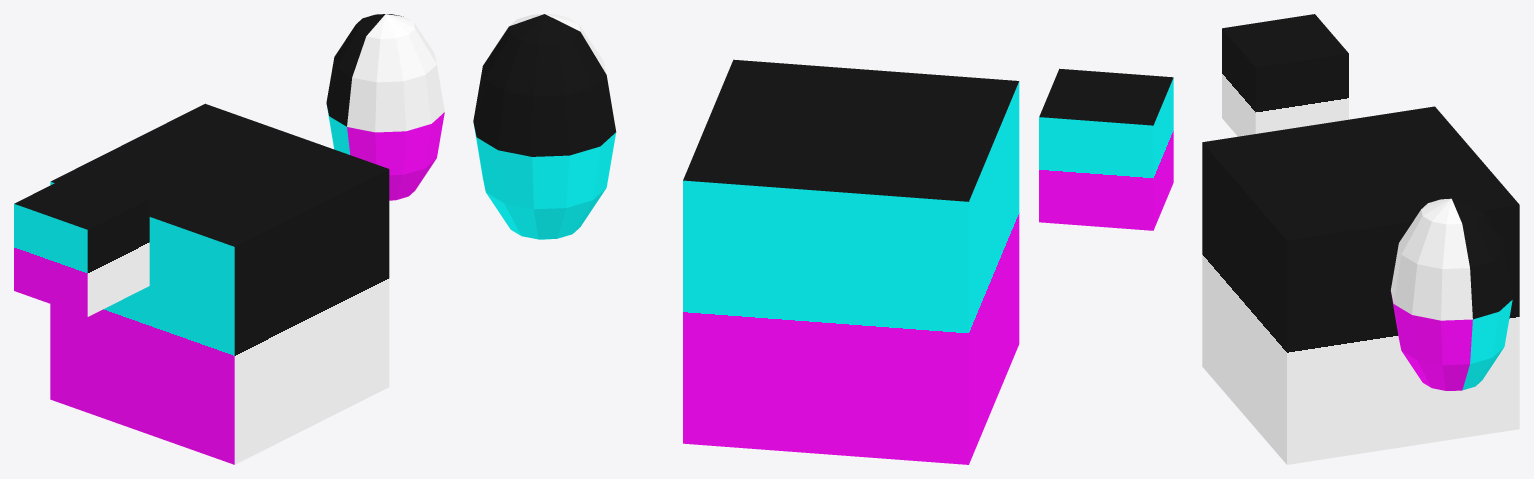
File: blender_probe_unlit.glb
3 renders of one model, left to right at view 1: azimuth 30°, elevation 25°; view 2: azimuth 150°, elevation 25°; view 3: azimuth 270°, elevation 25°, orthographic. The views are drawn at different scales.
Visible parts, largest first — view 1: Probe_Textured_Cube.001, Probe_Shared_Cube.001, Probe_Child_Sphere.001; view 2: Probe_Textured_Cube.001, Probe_Child_Sphere.001, Probe_Shared_Cube.001; view 3: Probe_Textured_Cube.001, Probe_Child_Sphere.001, Probe_Shared_Cube.001.
Boxes of the visible parts, box(x1,y1,x2,y2) form: Probe_Textured_Cube.001: box(50, 103, 389, 464); Probe_Shared_Cube.001: box(14, 172, 149, 316); Probe_Child_Sphere.001: box(326, 14, 444, 200); Probe_Textured_Cube.001: box(683, 59, 1019, 464); Probe_Child_Sphere.001: box(473, 14, 616, 239); Probe_Shared_Cube.001: box(1039, 68, 1173, 230); Probe_Textured_Cube.001: box(1202, 106, 1519, 464); Probe_Child_Sphere.001: box(1390, 198, 1512, 390); Probe_Shared_Cube.001: box(1222, 14, 1348, 136).
Size of the model in its own units: 3.29 by 1.9 by 1.79.
1 material, 1 textured.
